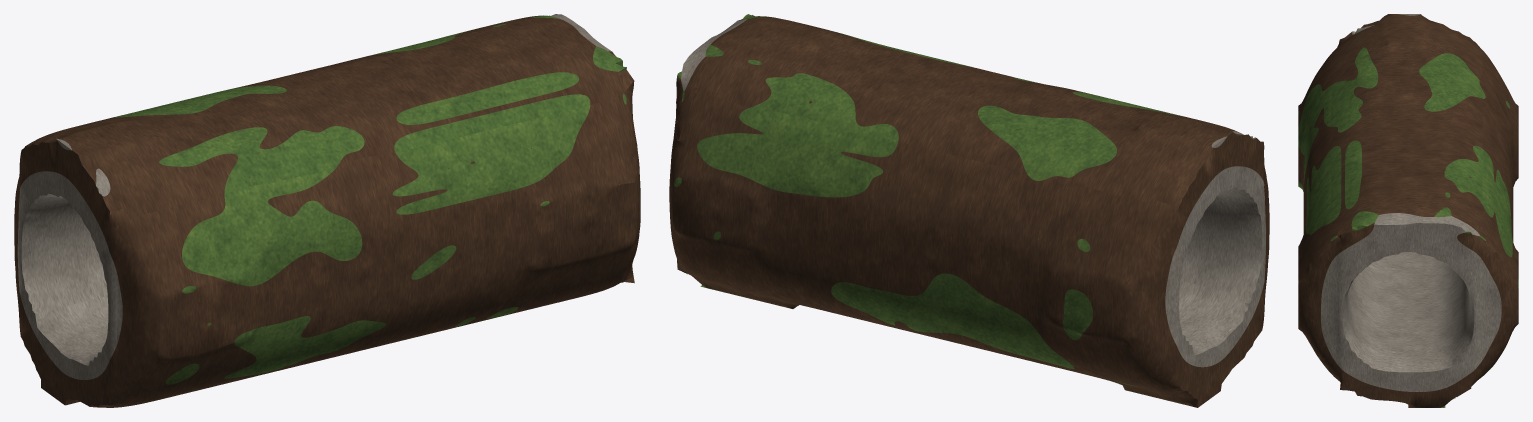
File: tree_log_fallen_hollow.glb
3 renders of one model, left to right at view 1: azimuth 30°, elevation 25°; view 2: azimuth 150°, elevation 25°; view 3: azimuth 270°, elevation 25°, orthographic. The views are drawn at different scales.
Visible parts, largest first — view 1: wilds_ruins_tree_log_fallen_hollow; view 2: wilds_ruins_tree_log_fallen_hollow; view 3: wilds_ruins_tree_log_fallen_hollow.
Boxes of the visible parts, x1,y1,x2,y2 form: wilds_ruins_tree_log_fallen_hollow: (14, 14, 640, 407); wilds_ruins_tree_log_fallen_hollow: (669, 14, 1269, 407); wilds_ruins_tree_log_fallen_hollow: (1298, 14, 1518, 407).
Size of the model in its own units: 2.38 by 1.12 by 1.12.
3 materials, 3 textured.
